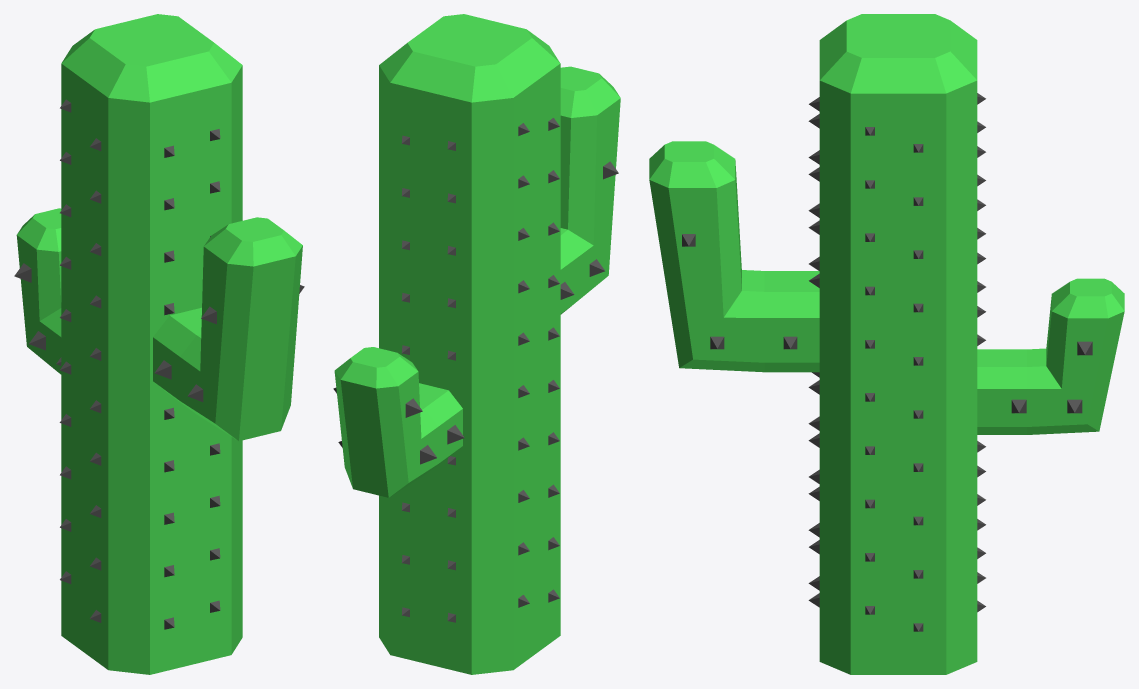
The model's file is Cactus.fbx.
3 renders of one model, left to right at view 1: azimuth 30°, elevation 25°; view 2: azimuth 150°, elevation 25°; view 3: azimuth 270°, elevation 25°, orthographic.
Parts seen in each view (by area): view 1: Cube, Cube.002, Cube.001, Cube.005, Cube.006, Cube.007, Cube.008; view 2: Cube, Cube.001, Cube.002, Cube.006, Cube.005, Cube.010, Cube.009; view 3: Cube, Cube.002, Cube.001, Cube.004, Cube.003, Cube.008, Cube.007.
Part boxes in pixels (x1=…): Cube: x1=61, y1=14, x2=242, y2=674; Cube.002: x1=153, y1=217, x2=302, y2=441; Cube.001: x1=16, y1=208, x2=61, y2=374; Cube.005: x1=59, y1=99, x2=71, y2=583; Cube.006: x1=90, y1=138, x2=101, y2=622; Cube.007: x1=164, y1=145, x2=174, y2=629; Cube.008: x1=210, y1=129, x2=220, y2=612; Cube: x1=379, y1=14, x2=560, y2=674; Cube.001: x1=334, y1=347, x2=462, y2=497; Cube.002: x1=560, y1=66, x2=620, y2=314; Cube.006: x1=548, y1=118, x2=559, y2=602; Cube.005: x1=518, y1=123, x2=529, y2=607; Cube.010: x1=447, y1=141, x2=455, y2=622; Cube.009: x1=401, y1=135, x2=409, y2=616; Cube: x1=819, y1=14, x2=977, y2=674; Cube.002: x1=649, y1=141, x2=819, y2=372; Cube.001: x1=977, y1=278, x2=1124, y2=434; Cube.004: x1=913, y1=144, x2=923, y2=631; Cube.003: x1=865, y1=127, x2=874, y2=614; Cube.008: x1=808, y1=114, x2=819, y2=607; Cube.007: x1=808, y1=97, x2=819, y2=590.
Bounding box in the file's own units: 226 × 848 × 603.
